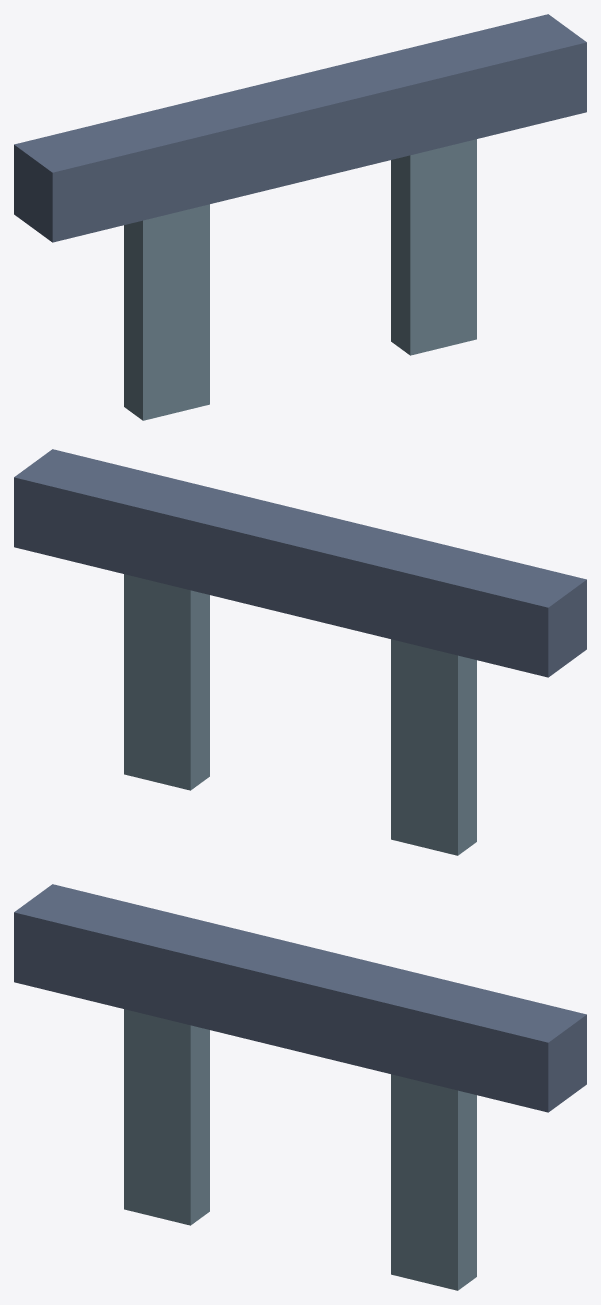
The model's file is Fence.glb.
3 renders of one model, top to bottom at view 1: azimuth 30°, elevation 25°; view 2: azimuth 150°, elevation 25°; view 3: azimuth 330°, elevation 25°, orthographic.
Visible parts, largest first — view 1: generated(Clone); view 2: generated(Clone); view 3: generated(Clone).
Part boxes in pixels (x1,y1,x2,y2): generated(Clone): (14,14,586,420); generated(Clone): (14,449,586,855); generated(Clone): (14,884,586,1290).
Bounding box in the file's own units: 16 × 8 × 2.
Materials: 1 (1 with a texture image).
